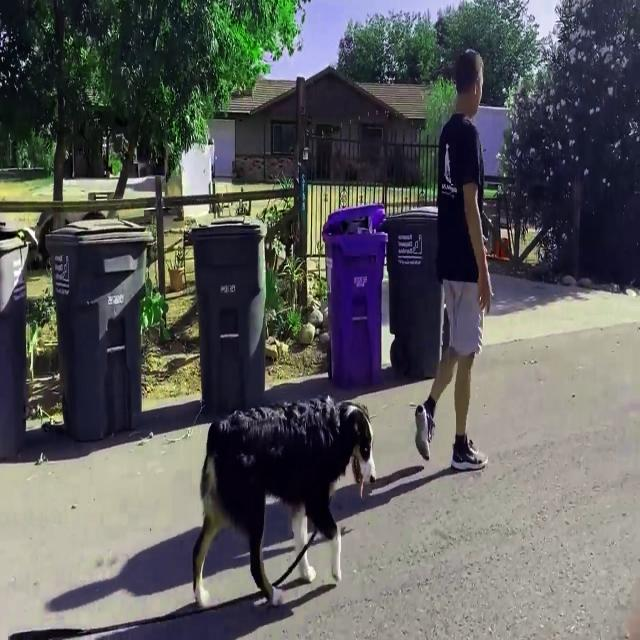Unleashed_Dog: (191, 280, 483, 610)
